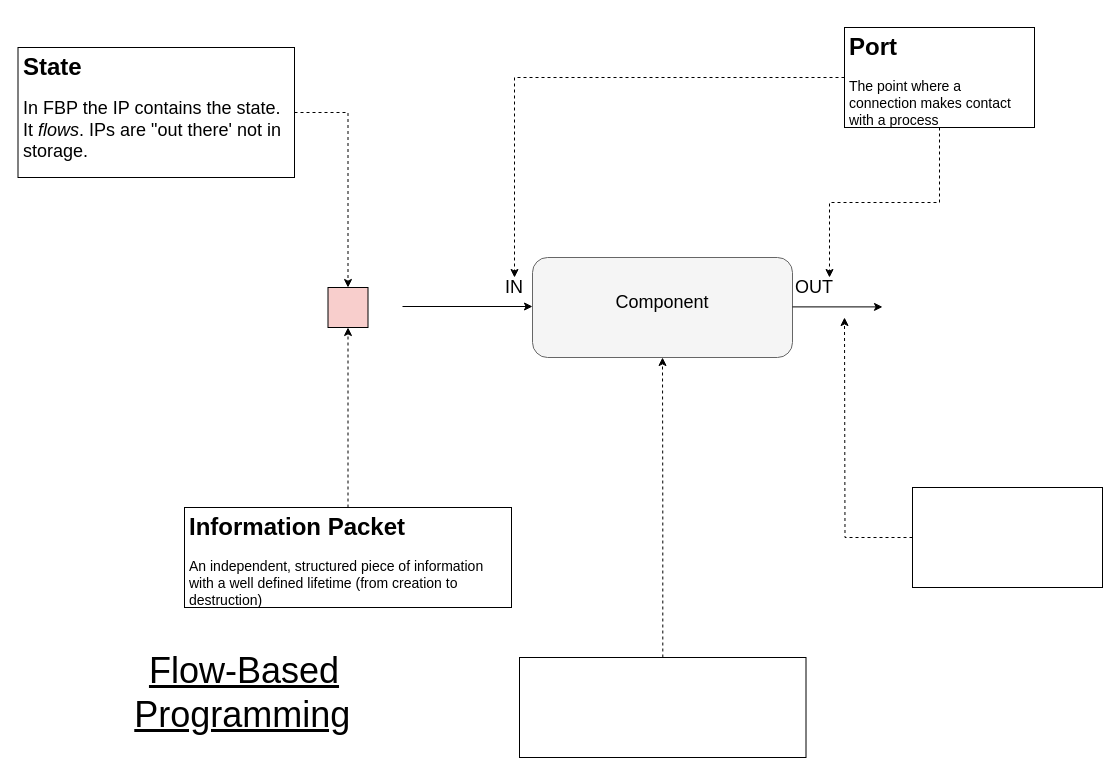
The diagram is 1120 pixels wide and 775 high, and some of its shapes have lost their labels. Each missing label, with the box of its shape:
Behavior In FBP the the component contains the behavior.: (518, 656, 806, 758)
Connector A bounded pipe of information packets: (912, 486, 1102, 588)
